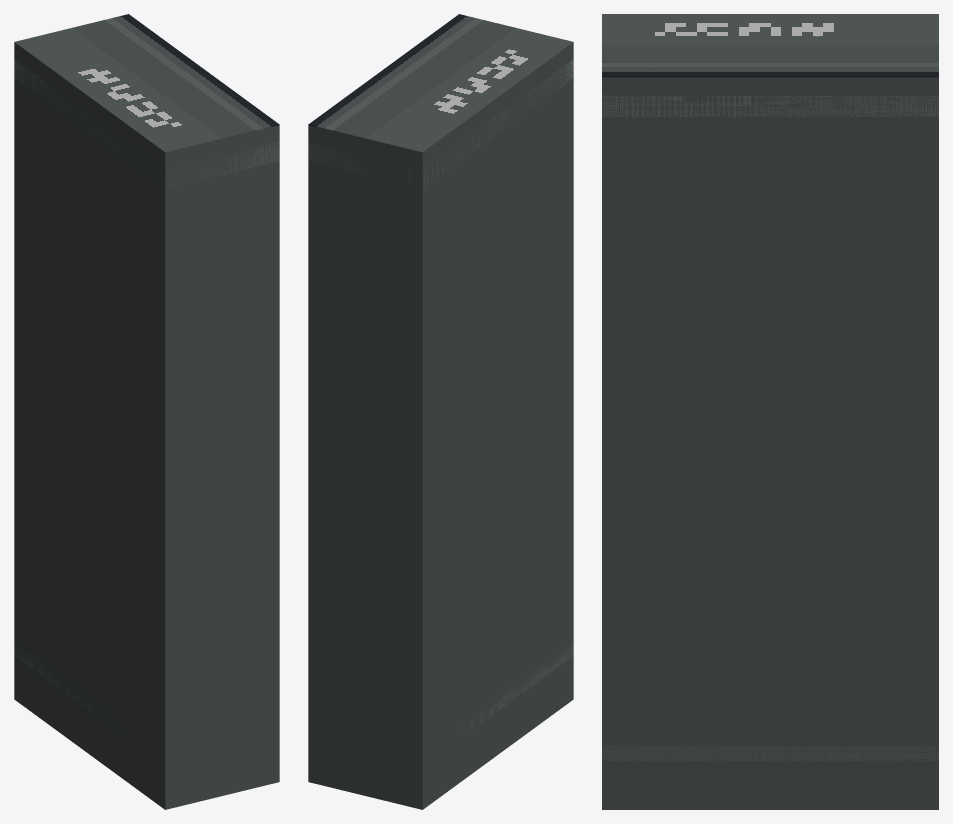
The model's file is CMU3DInteriorVehicleVanFront2.glb.
3 views of the same model, side by side, from view 1: azimuth 30°, elevation 25°; view 2: azimuth 150°, elevation 25°; view 3: azimuth 270°, elevation 25° (orthographic). The views are drawn at different scales.
Parts seen in each view (by area): view 1: cabin bulkhead, cabin bulkhead source finish, upper armor trim, lower armor trim; view 2: cabin bulkhead, cabin bulkhead source finish, upper armor trim, lower armor trim; view 3: cabin bulkhead, cabin bulkhead source finish, upper armor trim, lower armor trim.
Boxes of the visible parts, <box> form: cabin bulkhead: <box>14,43,279,809</box>; cabin bulkhead source finish: <box>14,14,279,152</box>; upper armor trim: <box>14,59,279,186</box>; lower armor trim: <box>14,643,118,731</box>; cabin bulkhead: <box>308,43,573,809</box>; cabin bulkhead source finish: <box>308,14,573,152</box>; upper armor trim: <box>308,60,573,186</box>; lower armor trim: <box>463,643,573,730</box>; cabin bulkhead: <box>602,77,938,809</box>; cabin bulkhead source finish: <box>602,14,938,77</box>; upper armor trim: <box>602,95,938,116</box>; lower armor trim: <box>602,746,938,760</box>.
Bounding box in the file's own units: 0.4375 × 2.4 × 1.
Materials: 4 (1 with a texture image).
